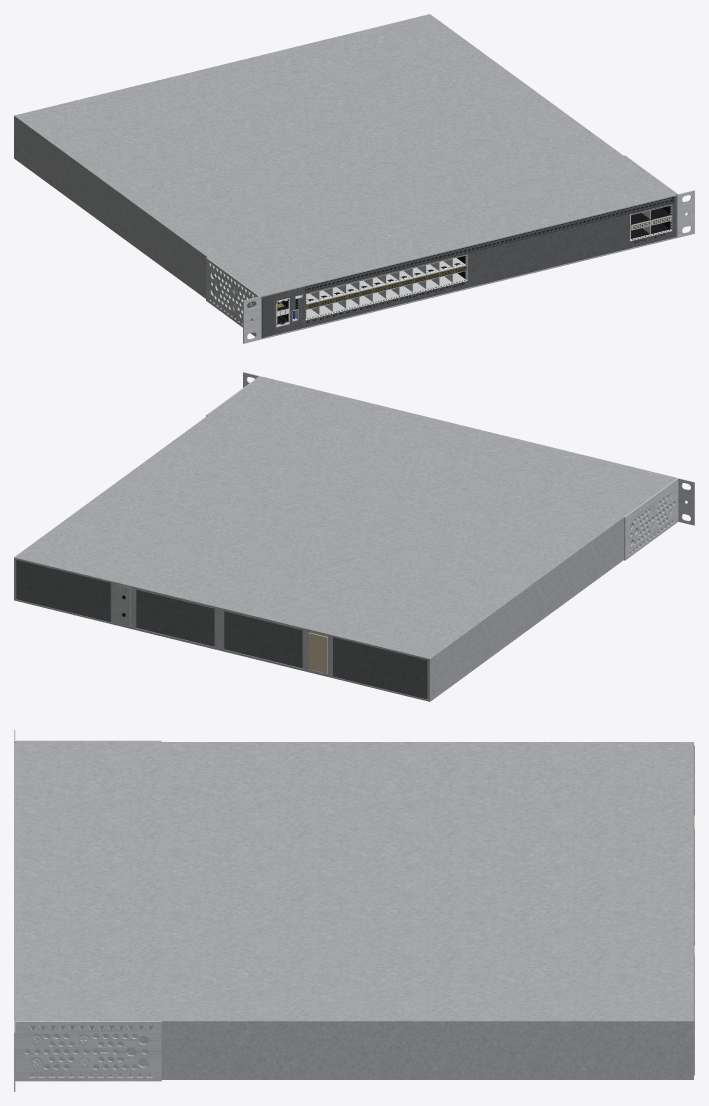
3 views of the same model, one above another, from view 1: azimuth 30°, elevation 25°; view 2: azimuth 150°, elevation 25°; view 3: azimuth 270°, elevation 25° (orthographic). The views are drawn at different scales.
Visible parts, largest first — view 1: Shell, Port_Cages, Bank2_Filler, Rack_Ears, Vent_Top, Front_Lip, Front_Details; view 2: Shell, empty:PS-1, empty:PS-0, Rack_Ears, empty:FAN 0, empty:FAN 1, SSD_Module, Front_Lip, Ground_Pad; view 3: Shell, Rack_Ears, Front_Lip.
Boxes of the visible parts, x1,y1,x2,y2 form: Shell: [14, 14, 676, 337]; Port_Cages: [305, 204, 672, 320]; Bank2_Filler: [466, 214, 629, 280]; Rack_Ears: [206, 155, 694, 343]; Vent_Top: [305, 197, 672, 291]; Front_Lip: [261, 195, 677, 339]; Front_Details: [262, 233, 665, 337]; Shell: [14, 377, 676, 701]; empty:PS-1: [16, 559, 111, 622]; empty:PS-0: [333, 637, 427, 699]; Rack_Ears: [206, 372, 694, 560]; empty:FAN 0: [224, 611, 302, 668]; empty:FAN 1: [136, 589, 214, 646]; SSD_Module: [308, 632, 327, 673]; Front_Lip: [262, 376, 676, 478]; Ground_Pad: [118, 585, 130, 626]; Shell: [15, 742, 693, 1079]; Rack_Ears: [14, 730, 161, 1091]; Front_Lip: [14, 742, 16, 1020].
Bounding box in the file's own units: 0.4826 × 0.044 × 0.4587.
22 materials, 4 textured.
